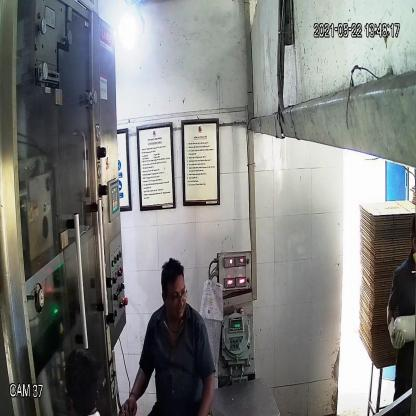goggles: (158, 288, 190, 307)
